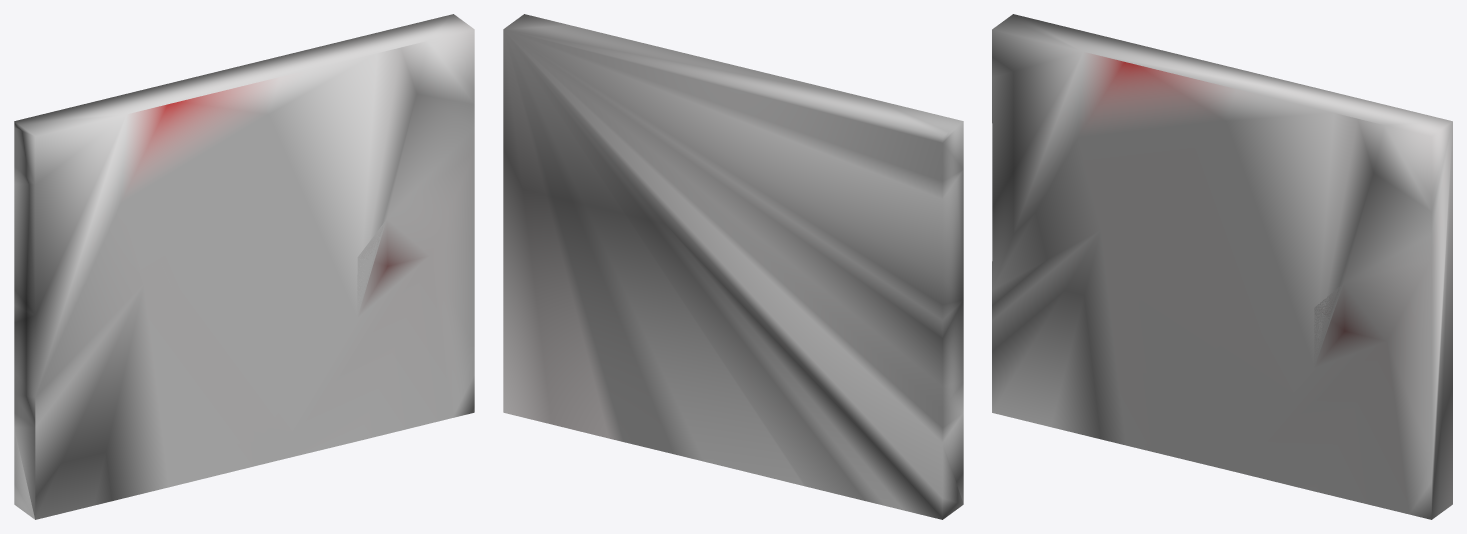
Rendered from SM_FA_Factory_W240_H200.fbx.
3 views of the same model, side by side, from view 1: azimuth 30°, elevation 25°; view 2: azimuth 150°, elevation 25°; view 3: azimuth 330°, elevation 25° (orthographic).
Visible parts, largest first — view 1: SM_FA_Factory_W240_H200; view 2: SM_FA_Factory_W240_H200; view 3: SM_FA_Factory_W240_H200.
Part boxes in pixels (x1,y1,x2,y2): SM_FA_Factory_W240_H200: (14,14,474,519); SM_FA_Factory_W240_H200: (503,14,963,519); SM_FA_Factory_W240_H200: (992,14,1452,519).
Size of the model in its own units: 240 by 20 by 200.
